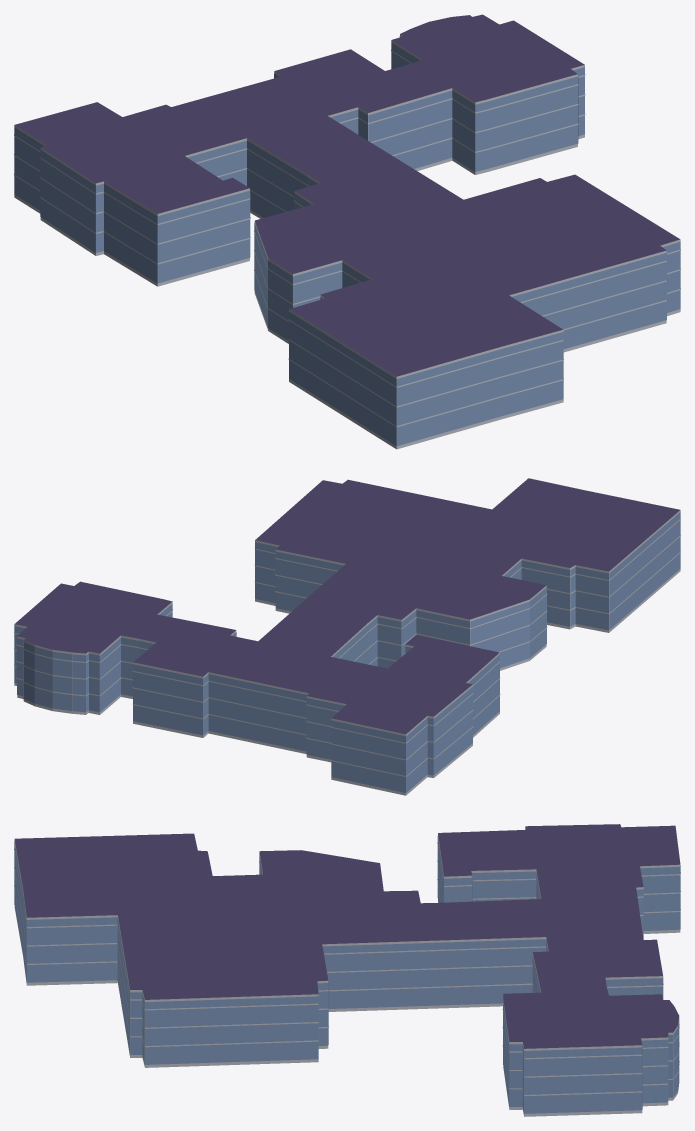
The model's file is core-spencer-engineering-building-day.glb.
The picture shows the model from 3 angles, top to bottom: view 1: azimuth 30°, elevation 25°; view 2: azimuth 150°, elevation 25°; view 3: azimuth 270°, elevation 25°; orthographic projection. The views are drawn at different scales.
Parts seen in each view (by area): view 1: campus/core-spencer-engineering-building-day-0; view 2: campus/core-spencer-engineering-building-day-0; view 3: campus/core-spencer-engineering-building-day-0.
Boxes of the visible parts, box(x1,y1,x2,y2) form: campus/core-spencer-engineering-building-day-0: box(14, 14, 680, 449); campus/core-spencer-engineering-building-day-0: box(14, 478, 680, 795); campus/core-spencer-engineering-building-day-0: box(14, 824, 680, 1116).
Bounding box in the file's own units: 94.51 × 13.3 × 118.
